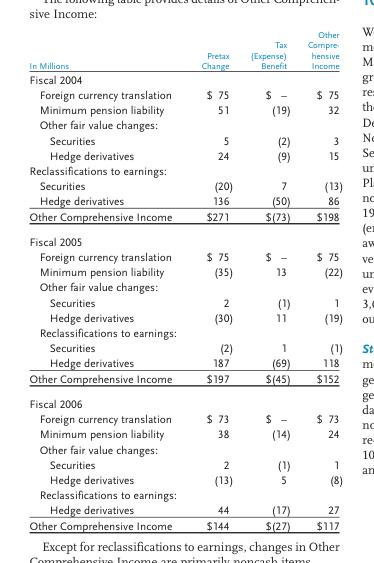table: (28, 29, 342, 531)
table column: (28, 29, 185, 531), (240, 29, 298, 531), (185, 29, 240, 531), (298, 29, 342, 531)
table column header: (28, 29, 342, 71)
table projected row header: (28, 228, 342, 248), (28, 390, 342, 410), (28, 324, 342, 340), (28, 486, 342, 502), (28, 71, 342, 86), (28, 117, 342, 132), (28, 162, 342, 177), (28, 279, 342, 294), (28, 441, 342, 456)
table row: (28, 29, 342, 71), (28, 208, 342, 228), (28, 228, 342, 248), (28, 370, 342, 390), (28, 390, 342, 410), (28, 101, 342, 117), (28, 177, 342, 193), (28, 263, 342, 279), (28, 324, 342, 340), (28, 410, 342, 426), (28, 486, 342, 502), (28, 71, 342, 86), (28, 86, 342, 101), (28, 117, 342, 132), (28, 132, 342, 147), (28, 147, 342, 162), (28, 162, 342, 177), (28, 193, 342, 208), (28, 248, 342, 263), (28, 279, 342, 294), (28, 294, 342, 309), (28, 309, 342, 324), (28, 340, 342, 355), (28, 355, 342, 370), (28, 426, 342, 441), (28, 441, 342, 456), (28, 456, 342, 471), (28, 471, 342, 486), (28, 502, 342, 517), (28, 517, 342, 531)
